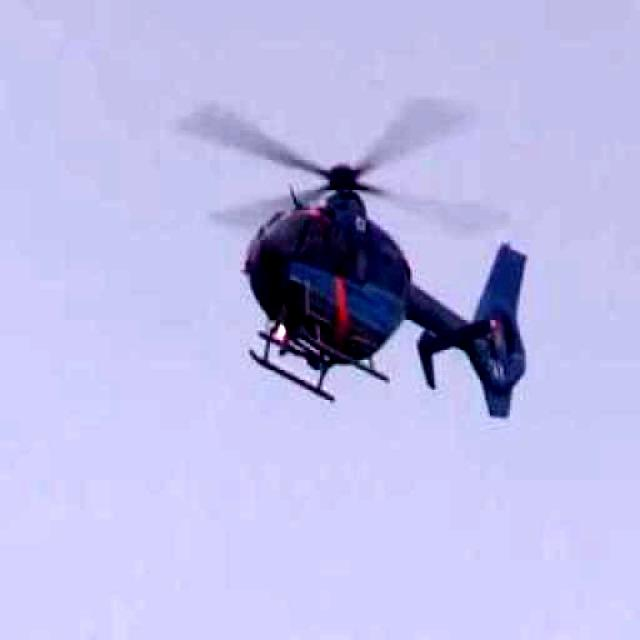drone: (140, 32, 588, 456)
